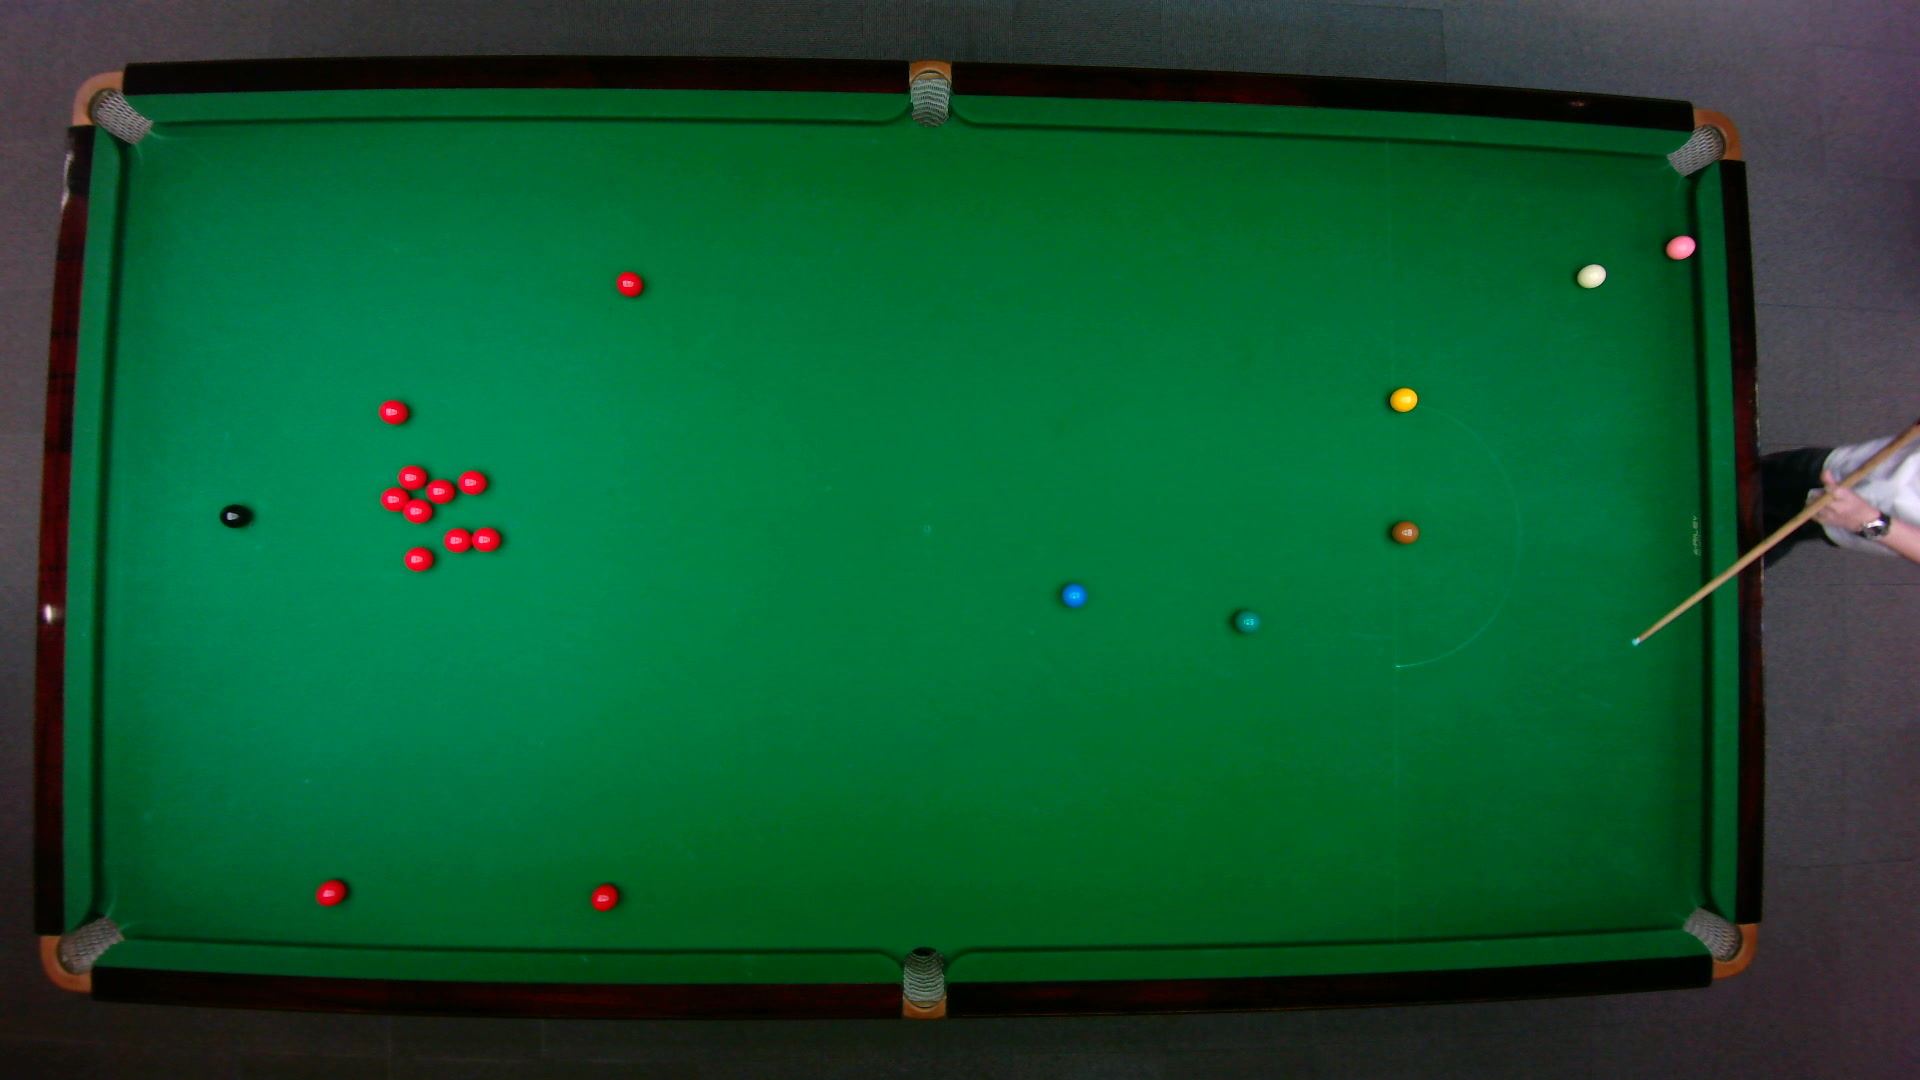bag: (37, 914, 125, 993), (69, 69, 152, 145), (1677, 905, 1756, 978), (1663, 107, 1741, 177), (901, 944, 944, 1021), (909, 57, 949, 128)
black: (218, 502, 251, 529)
blue: (1059, 582, 1088, 608)
brown: (1389, 520, 1419, 545)
cue: (1629, 429, 1920, 653)
green: (1232, 607, 1261, 633)
pink: (1663, 232, 1697, 260)
red: (442, 525, 473, 554), (469, 524, 501, 553), (400, 496, 433, 524), (396, 463, 429, 491), (402, 545, 434, 572), (376, 398, 409, 425), (422, 477, 456, 502), (378, 484, 409, 512), (615, 269, 644, 297), (456, 468, 487, 495)
white: (1575, 261, 1607, 289)
yellow: (314, 877, 347, 907), (589, 882, 618, 911), (1387, 385, 1419, 411)
zone: (1390, 400, 1520, 667)
